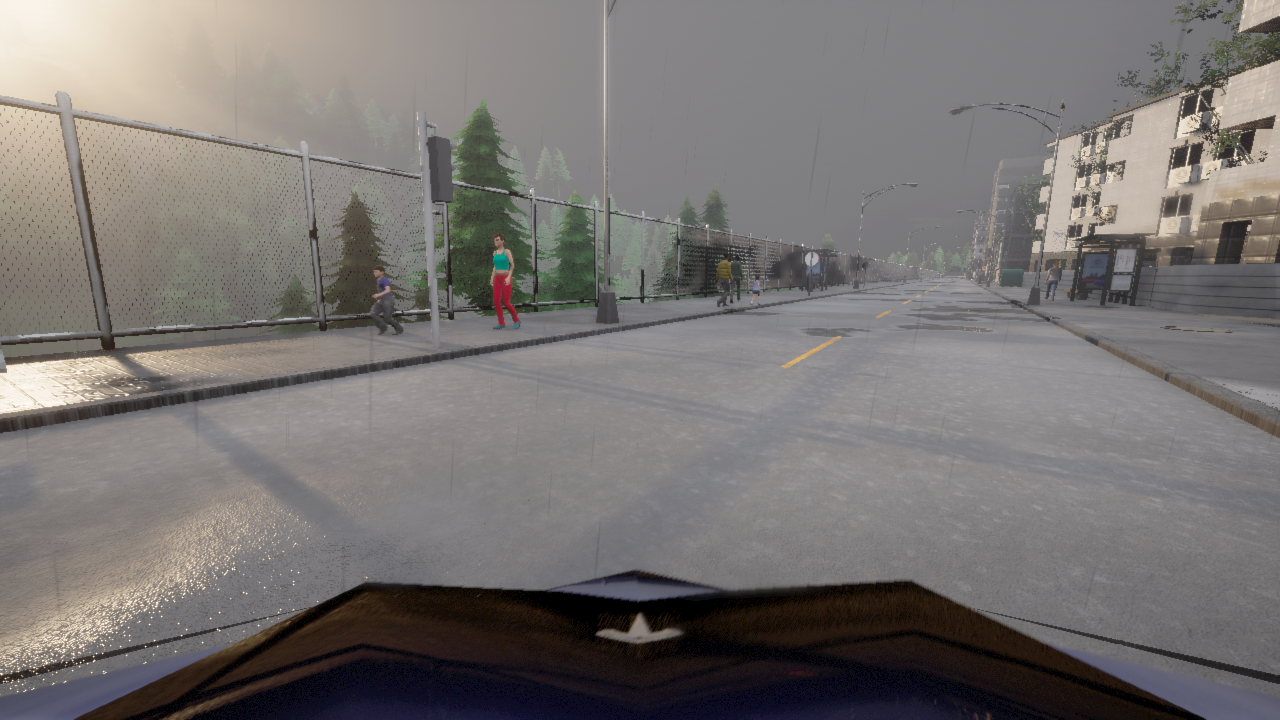cyclist: (0, 569, 1279, 719)
pedestrian: (490, 233, 520, 328), (369, 265, 403, 334), (715, 253, 732, 306), (1044, 261, 1061, 300), (730, 255, 742, 302), (750, 275, 760, 305)
